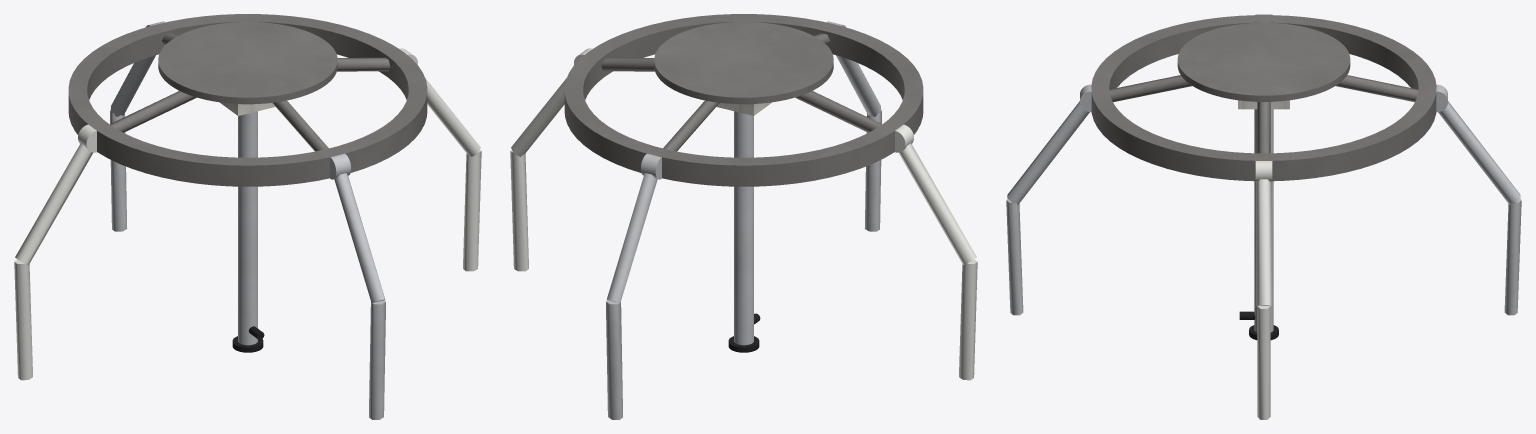
File: station16_capture_claw_m.glb
3 views of the same model, side by side, from view 1: azimuth 30°, elevation 25°; view 2: azimuth 150°, elevation 25°; view 3: azimuth 270°, elevation 25° (orthographic). The views are drawn at different scales.
Parts seen in each view (by area): view 1: ring, top_plate, finger_3, finger_4, boom, finger_1, finger_2, boom_tip; view 2: ring, top_plate, finger_3, finger_2, boom, finger_1, finger_4; view 3: ring, top_plate, finger_1, finger_2, finger_4, boom.
Boxes of the visible parts, box(x1,y1,x2,y2) form: ring: box(68, 14, 427, 186); top_plate: box(158, 22, 337, 104); finger_3: box(14, 124, 96, 380); finger_4: box(330, 153, 385, 419); boom: box(238, 111, 257, 345); finger_1: box(399, 48, 481, 271); finger_2: box(110, 21, 165, 231); boom_tip: box(232, 326, 264, 352); ring: box(564, 14, 923, 186); top_plate: box(654, 22, 833, 104); finger_3: box(895, 124, 977, 380); finger_2: box(606, 153, 661, 419); boom: box(734, 111, 753, 345); finger_1: box(510, 48, 592, 271); finger_4: box(826, 21, 881, 231); ring: box(1091, 15, 1436, 181); top_plate: box(1177, 22, 1350, 101); finger_1: box(1255, 161, 1272, 419); finger_2: box(1436, 84, 1521, 315); finger_4: box(1006, 84, 1091, 315); boom: box(1254, 109, 1273, 332).
Size of the model in its own units: 3.73 by 2.2 by 3.73.
5 materials, 3 textured.
